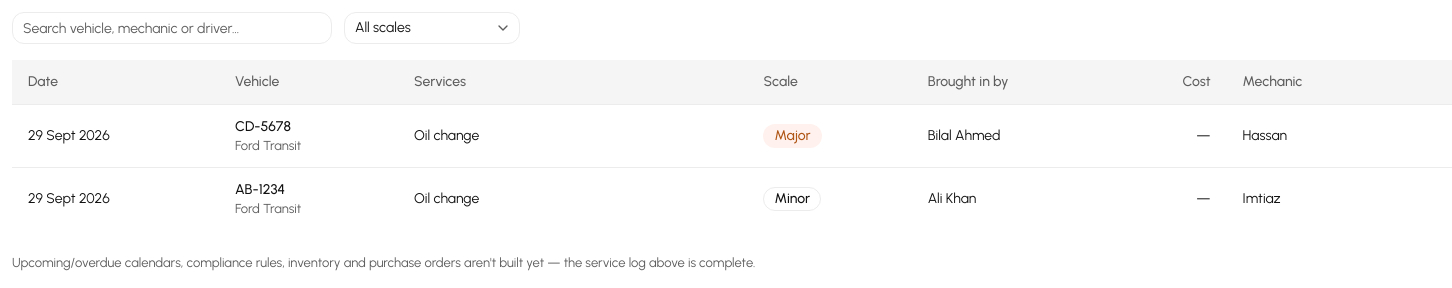
Maintenance filters › filters by service scale
Click the dropdown named "Filter by service scale": (432, 28) [344,12,520,44]
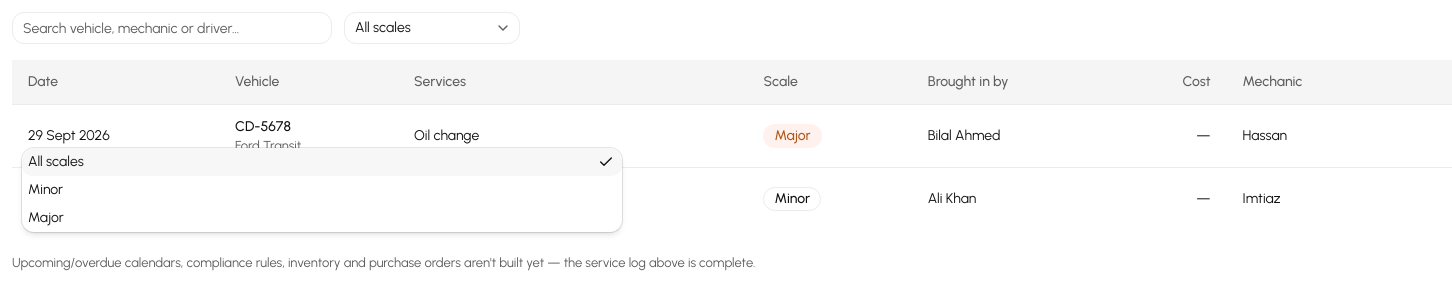
Click the option "Major": (46, 218) [28,209,64,226]
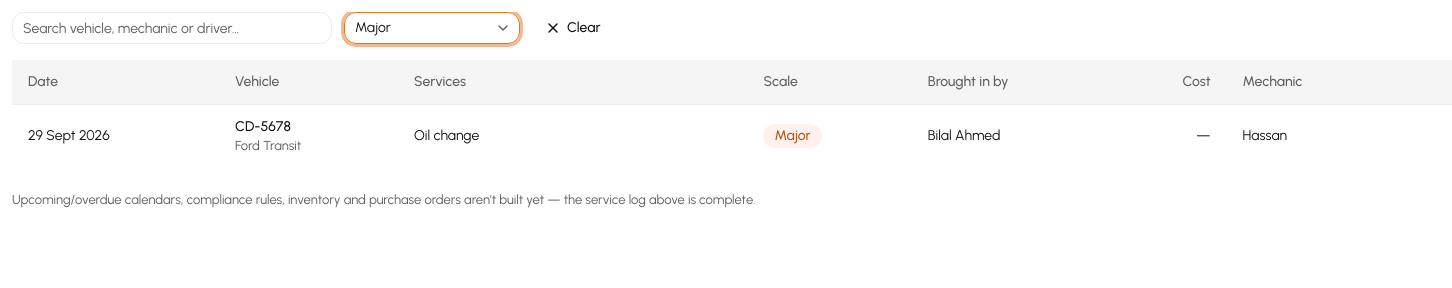
Expected: the link "CD-5678" is shown, [235,118,291,134]
Expected: the link "AB-1234" is gone
